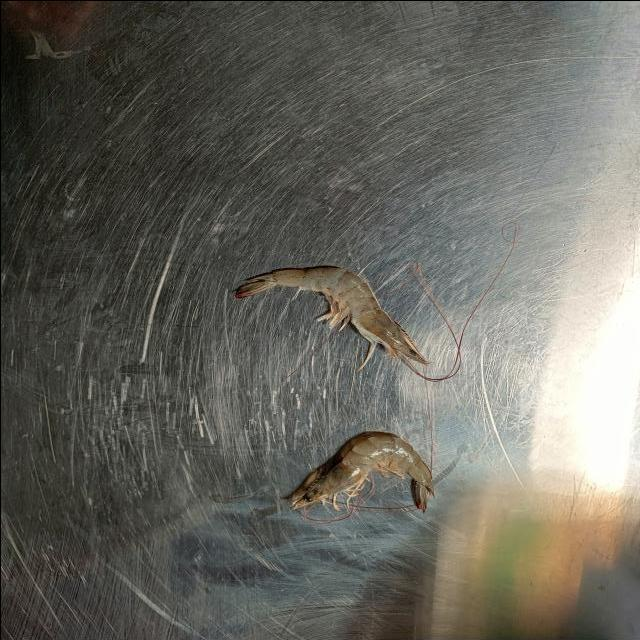shrimp: (235, 266, 428, 366), (286, 431, 432, 511)
